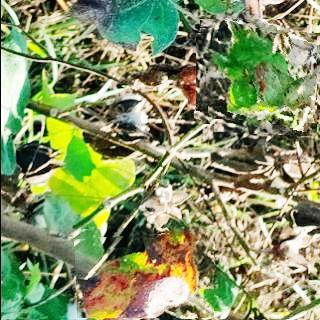blight: (198, 19, 316, 137), (73, 230, 213, 318)
